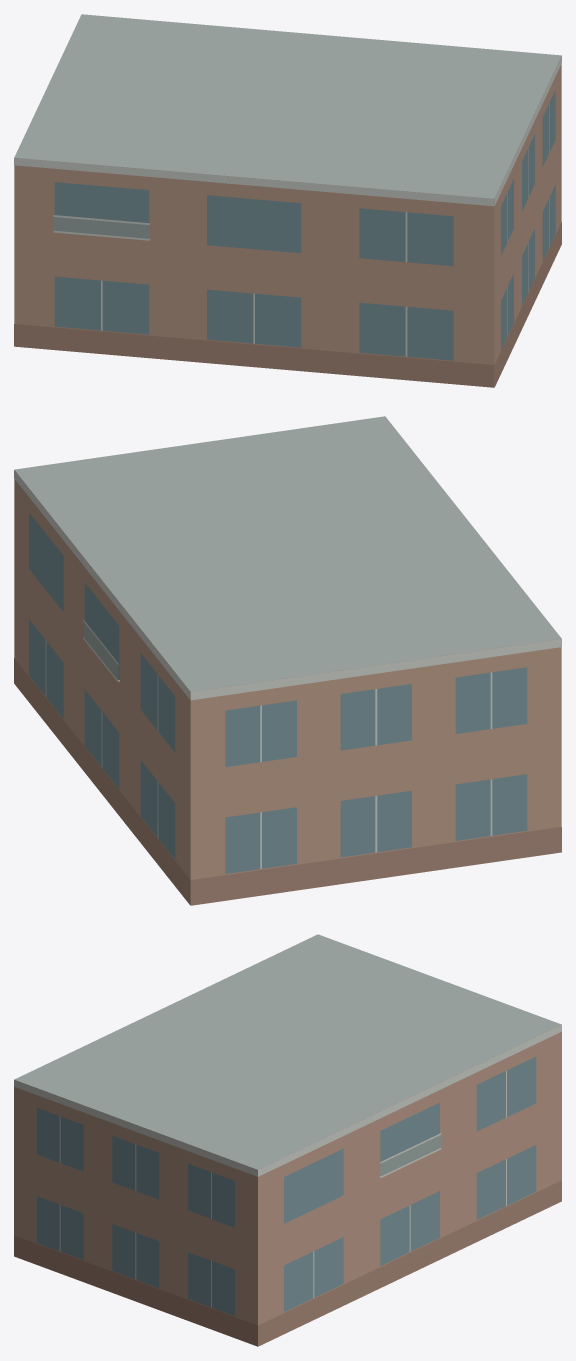
The model's file is survey-upis-32709089.glb.
3 views of the same model, one above another, from view 1: azimuth 30°, elevation 25°; view 2: azimuth 150°, elevation 25°; view 3: azimuth 270°, elevation 25° (orthographic). The views are drawn at different scales.
Visible parts, largest first — view 1: survey-upis-32709089.tmp; view 2: survey-upis-32709089.tmp; view 3: survey-upis-32709089.tmp.
Boxes of the visible parts, x1,y1,x2,y2 form: survey-upis-32709089.tmp: (14,14,561,387); survey-upis-32709089.tmp: (14,416,561,905); survey-upis-32709089.tmp: (14,934,561,1346).
Size of the model in its own units: 17.44 by 6.1 by 17.13.
